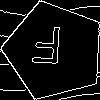F: (29, 26, 64, 73)
